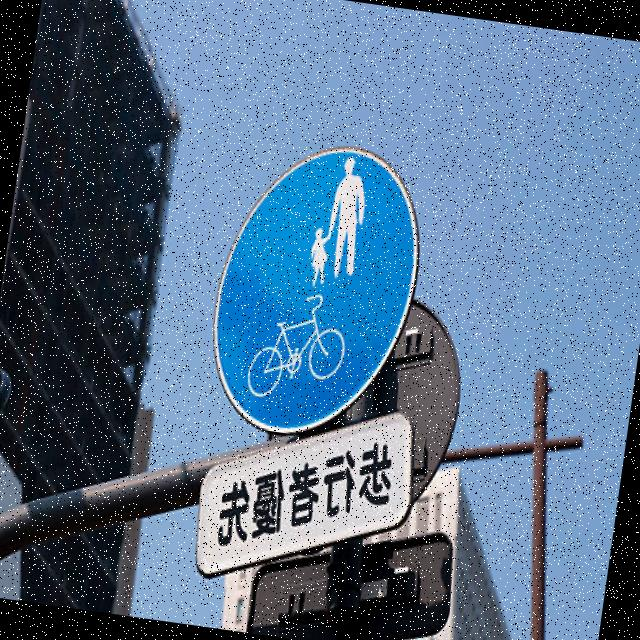bicycle: (185, 109, 448, 452)
